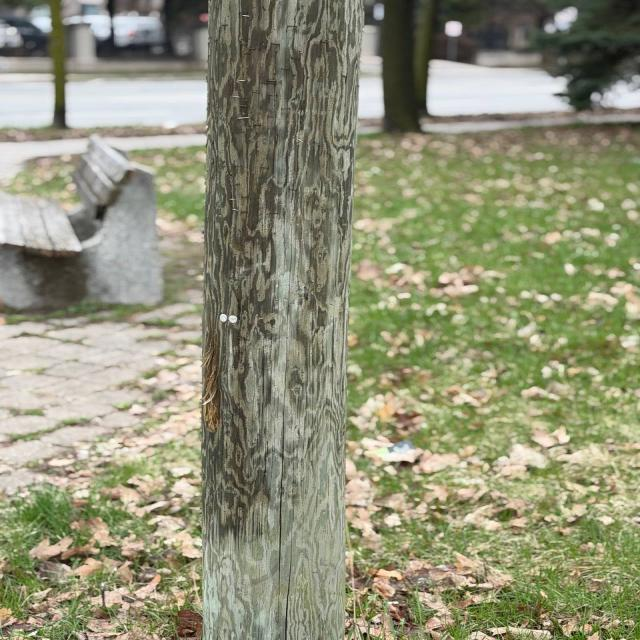Electrical Pole: (189, 0, 374, 640)
